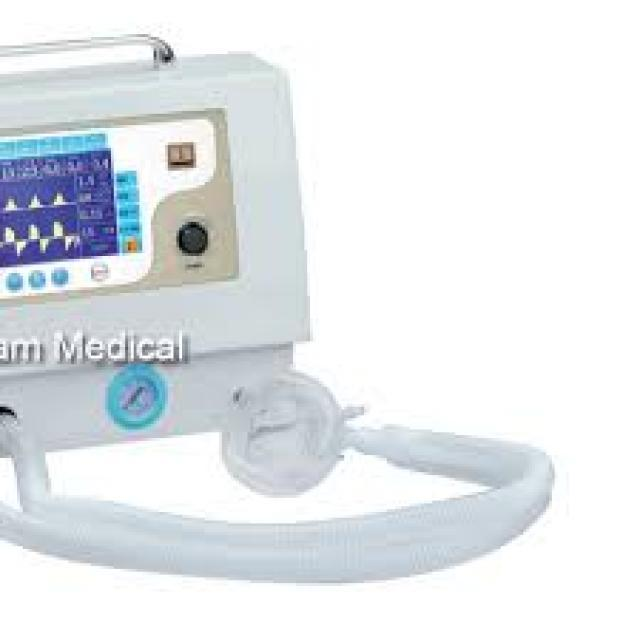ventilator: (53, 36, 502, 611)
